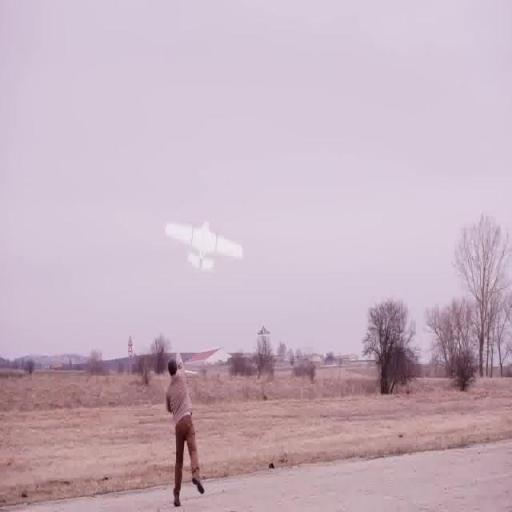uav: (154, 192, 254, 306)
